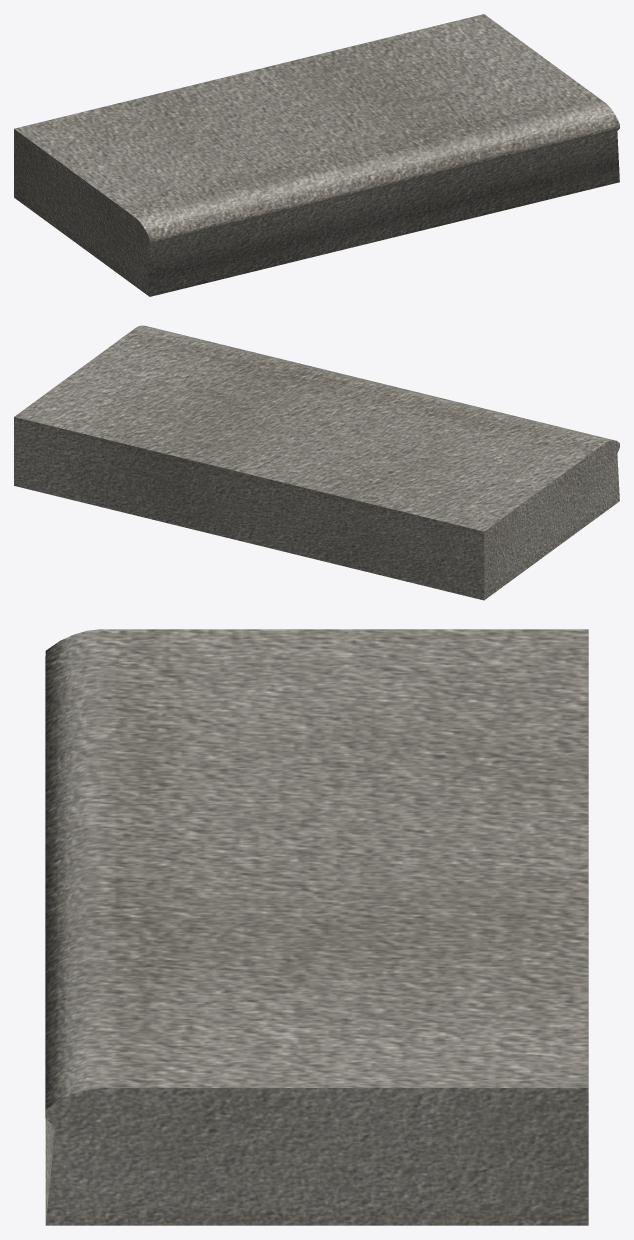
File: PathStair01.fbx
3 renders of one model, top to bottom at view 1: azimuth 30°, elevation 25°; view 2: azimuth 150°, elevation 25°; view 3: azimuth 270°, elevation 25°, orthographic. The views are drawn at different scales.
Parts seen in each view (by area): view 1: Cube; view 2: Cube; view 3: Cube.
Part boxes in pixels (x1,y1,x2,y2): Cube: [14, 14, 619, 296]; Cube: [14, 325, 619, 600]; Cube: [45, 629, 588, 1225].
Size of the model in its own units: 100 by 14 by 50.03.
